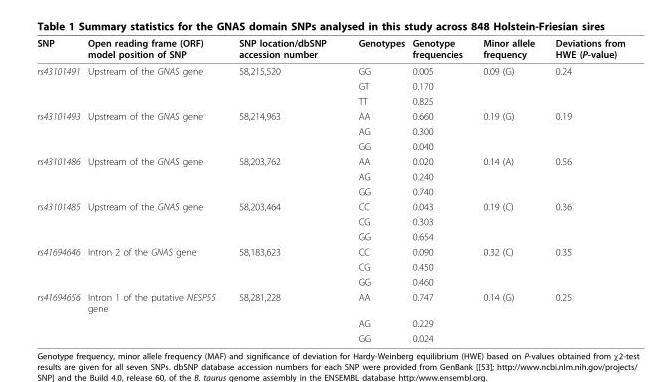table: (36, 36, 624, 343)
table column: (83, 36, 226, 343), (226, 36, 341, 343), (544, 36, 624, 343), (472, 36, 544, 343), (341, 36, 407, 343), (407, 36, 472, 343), (36, 36, 83, 343)
table column header: (36, 36, 624, 62)
table row: (36, 36, 624, 62), (36, 289, 624, 315), (36, 62, 624, 78), (36, 273, 624, 289), (36, 78, 624, 93), (36, 93, 624, 108), (36, 108, 624, 123), (36, 123, 624, 138), (36, 138, 624, 153), (36, 153, 624, 168), (36, 168, 624, 183), (36, 183, 624, 198), (36, 198, 624, 213), (36, 213, 624, 228), (36, 228, 624, 243), (36, 243, 624, 258), (36, 258, 624, 273), (36, 315, 624, 330), (36, 330, 624, 343)
table spanning cell: (36, 289, 83, 343), (36, 62, 83, 108), (36, 243, 83, 289), (36, 108, 83, 153), (36, 153, 83, 198), (36, 198, 83, 243)
